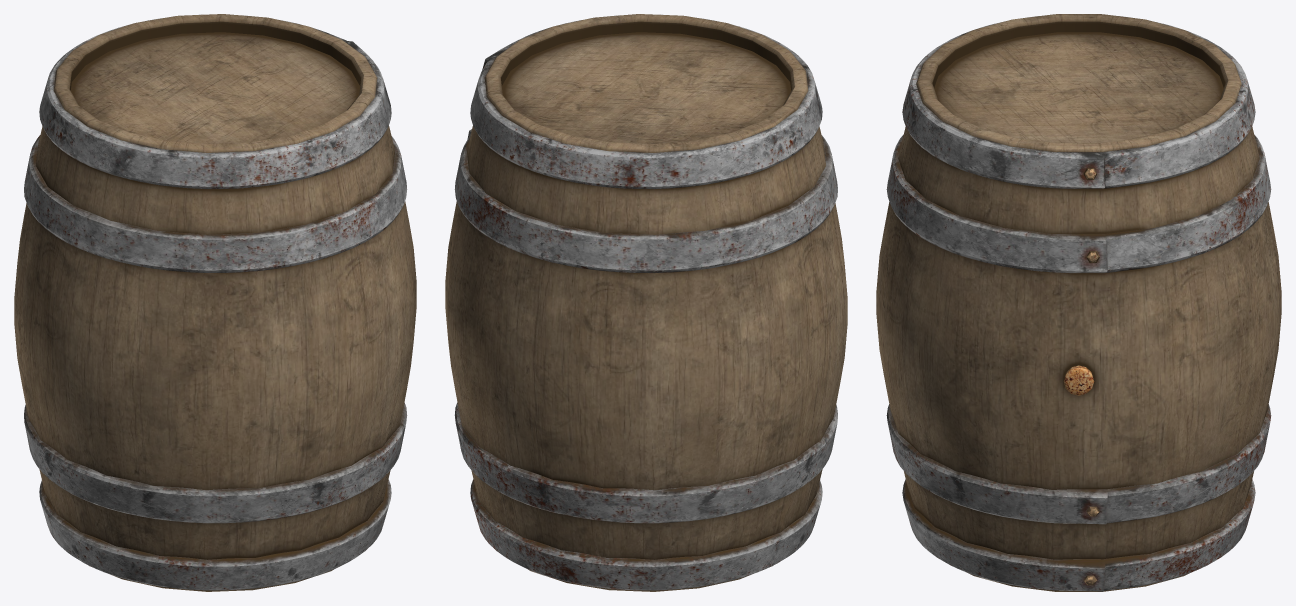
3 views of the same model, side by side, from view 1: azimuth 30°, elevation 25°; view 2: azimuth 150°, elevation 25°; view 3: azimuth 270°, elevation 25° (orthographic).
Parts seen in each view (by area): view 1: Barel; view 2: Barel; view 3: Barel.
Part boxes in pixels (x1,y1,x2,y2): Barel: [14, 14, 416, 591]; Barel: [445, 14, 847, 591]; Barel: [876, 14, 1281, 591].
Size of the model in its own units: 83.81 by 100 by 82.64.
Materials: 1 (1 with a texture image).
